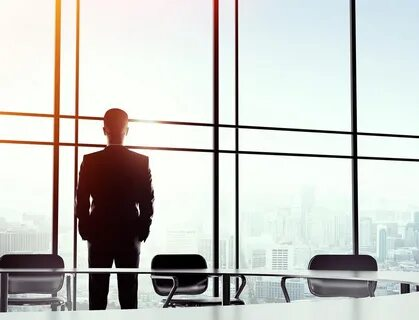awake: (75, 107, 156, 311)
